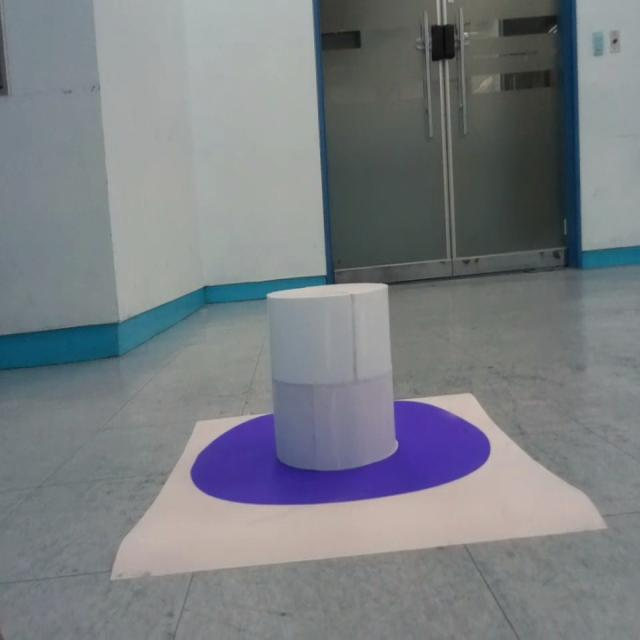cylinder: (266, 282, 397, 472)
